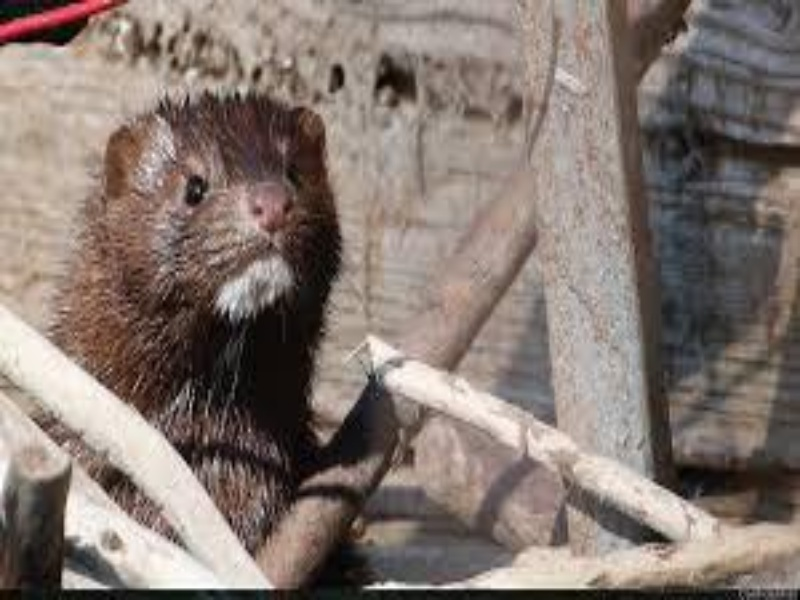minkish: (18, 85, 361, 587)
